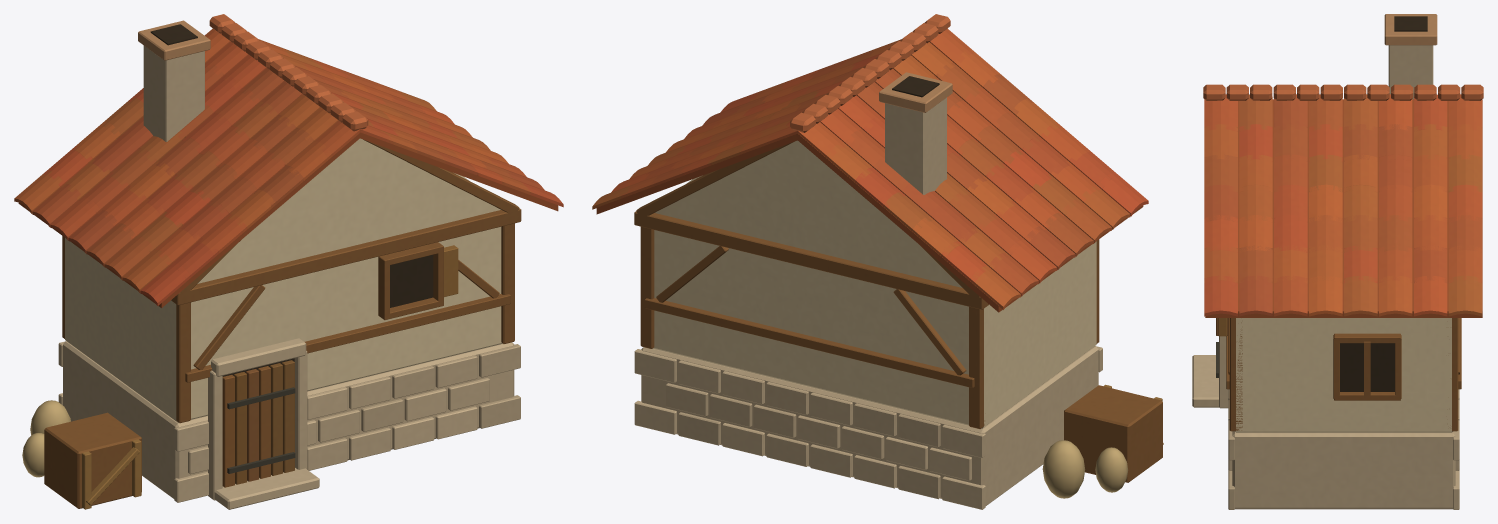
Rendered from SM_MolinoAgua_Edificio_LOD0.fbx.
3 renders of one model, left to right at view 1: azimuth 30°, elevation 25°; view 2: azimuth 150°, elevation 25°; view 3: azimuth 270°, elevation 25°, orthographic. The views are drawn at different scales.
Visible parts, largest first — view 1: SM_MolinoAgua_Edificio_LOD0; view 2: SM_MolinoAgua_Edificio_LOD0; view 3: SM_MolinoAgua_Edificio_LOD0.
Boxes of the visible parts, bbox=[...] form: SM_MolinoAgua_Edificio_LOD0: bbox=[14, 14, 563, 509]; SM_MolinoAgua_Edificio_LOD0: bbox=[592, 14, 1163, 509]; SM_MolinoAgua_Edificio_LOD0: bbox=[1192, 14, 1483, 509].
Bounding box in the file's own units: 0.9257 × 0.7285 × 0.5215.
1 material, 1 textured.
